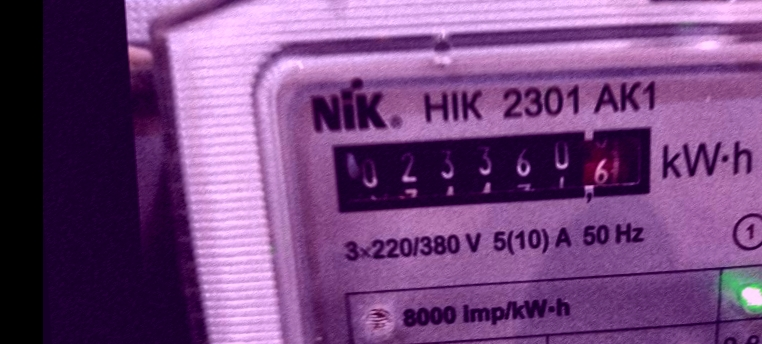0: (357, 152, 382, 188), (549, 135, 574, 171)
2: (397, 147, 420, 184)
3: (436, 145, 458, 181), (475, 141, 495, 176)
6: (512, 142, 534, 177), (591, 151, 611, 185)
screen: (319, 109, 676, 232)
